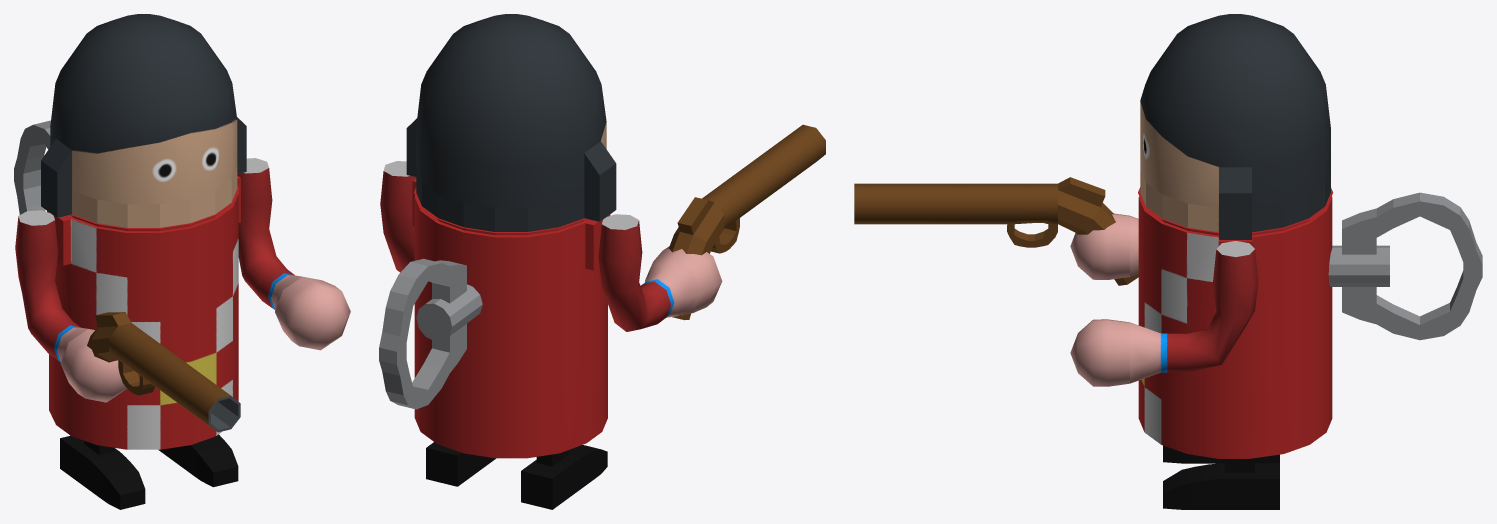
The model's file is unit_gun.fbx.
The picture shows the model from 3 angles, left to right: view 1: azimuth 30°, elevation 25°; view 2: azimuth 150°, elevation 25°; view 3: azimuth 270°, elevation 25°; orthographic projection. The views are drawn at different scales.
Parts seen in each view (by area): view 1: Sphere002, Object003, Object002, Cylinder001, Object005, Object004, Object001; view 2: Sphere002, Object001, Object002, Cylinder001, Object005, Object003, Object004; view 3: Sphere002, Cylinder001, Object001, Object003, Object004, Object002, Object005.
Part boxes in pixels (x1=…): Sphere002: x1=41, y1=14, x2=246, y2=449; Object003: x1=237, y1=158, x2=350, y2=350; Object002: x1=15, y1=210, x2=126, y2=402; Cylinder001: x1=74, y1=312, x2=240, y2=432; Object005: x1=60, y1=435, x2=145, y2=509; Object004: x1=158, y1=434, x2=238, y2=487; Object001: x1=14, y1=120, x2=50, y2=214; Sphere002: x1=406, y1=14, x2=616, y2=458; Object001: x1=379, y1=258, x2=482, y2=409; Object002: x1=598, y1=214, x2=722, y2=331; Cylinder001: x1=668, y1=124, x2=825, y2=320; Object005: x1=521, y1=445, x2=607, y2=509; Object003: x1=380, y1=161, x2=416, y2=272; Object004: x1=426, y1=442, x2=495, y2=486; Sphere002: x1=1138, y1=14, x2=1333, y2=458; Cylinder001: x1=854, y1=177, x2=1138, y2=285; Object001: x1=1328, y1=192, x2=1482, y2=340; Object003: x1=1070, y1=241, x2=1258, y2=386; Object004: x1=1163, y1=458, x2=1279, y2=509; Object002: x1=1070, y1=213, x2=1138, y2=279; Object005: x1=1163, y1=445, x2=1279, y2=463.
Bounding box in the file's own units: 50.24 × 97.32 × 78.06.
Materials: 5 (5 with a texture image).
